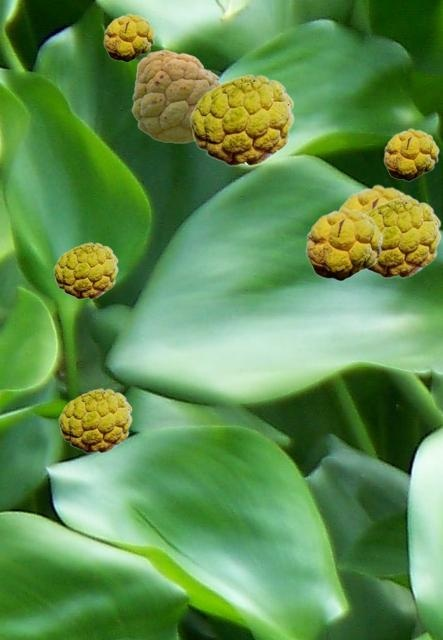atis: (189, 74, 293, 165), (131, 49, 220, 142), (365, 197, 440, 277), (305, 207, 382, 280), (58, 388, 131, 452), (53, 242, 117, 298), (383, 128, 438, 180), (103, 13, 154, 61), (338, 184, 412, 211)
